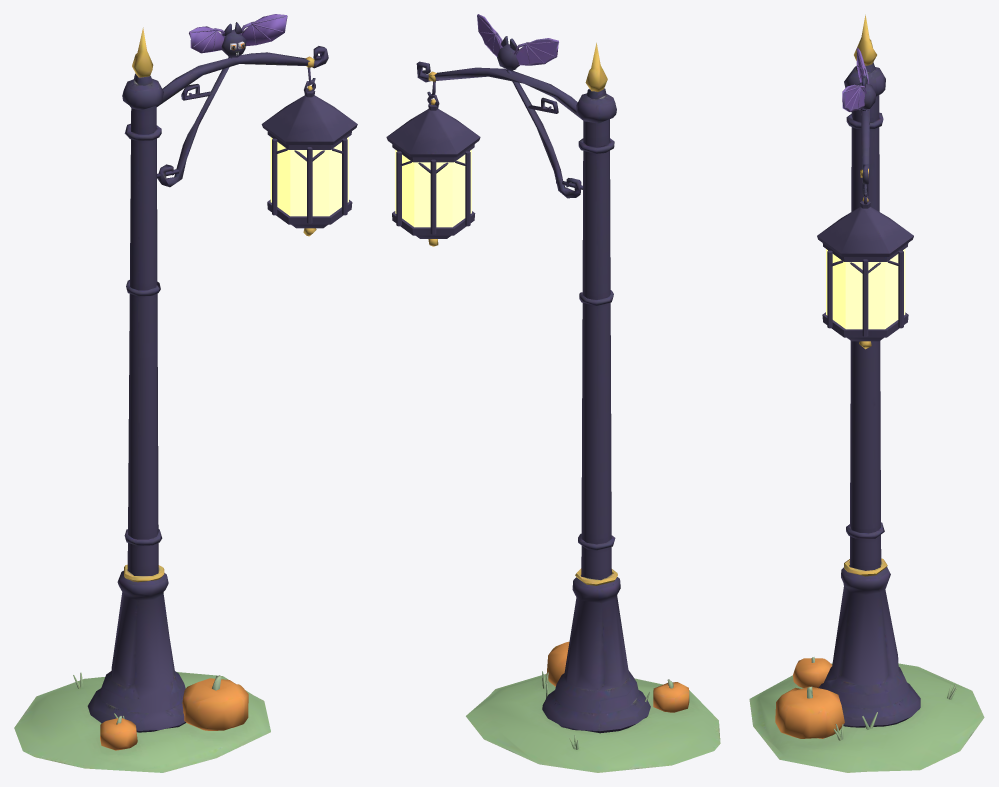
File: spooky-lamp-post.glb
The picture shows the model from 3 angles, left to right: view 1: azimuth 30°, elevation 25°; view 2: azimuth 150°, elevation 25°; view 3: azimuth 270°, elevation 25°; orthographic projection. The views are drawn at different scales.
Parts seen in each view (by area): view 1: spooky-lamp-post_body, spooky-lamp-post_lantern, spooky-lamp-post_lamp_glow; view 2: spooky-lamp-post_body, spooky-lamp-post_lantern, spooky-lamp-post_lamp_glow; view 3: spooky-lamp-post_body, spooky-lamp-post_lantern, spooky-lamp-post_lamp_glow.
Boxes of the visible parts, x1,y1,x2,y2 form: spooky-lamp-post_body: (14,14,328,772); spooky-lamp-post_lantern: (261,80,357,236); spooky-lamp-post_lamp_glow: (270,137,348,216); spooky-lamp-post_body: (416,14,720,772); spooky-lamp-post_lantern: (386,94,480,246); spooky-lamp-post_lamp_glow: (395,149,471,227); spooky-lamp-post_body: (749,14,984,772); spooky-lamp-post_lantern: (817,191,913,349); spooky-lamp-post_lamp_glow: (826,249,905,329).
Bounding box in the file's own units: 1.09 × 2.23 × 0.6761.
Materials: 3 (2 with a texture image).
